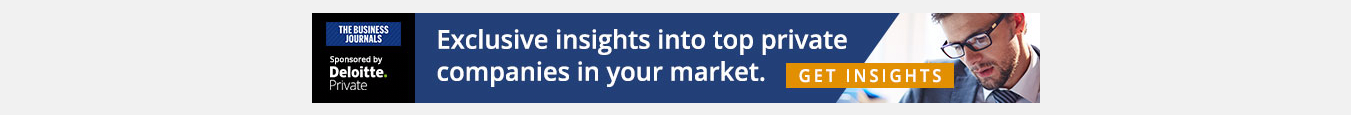fake_button: (783, 57, 965, 95)
